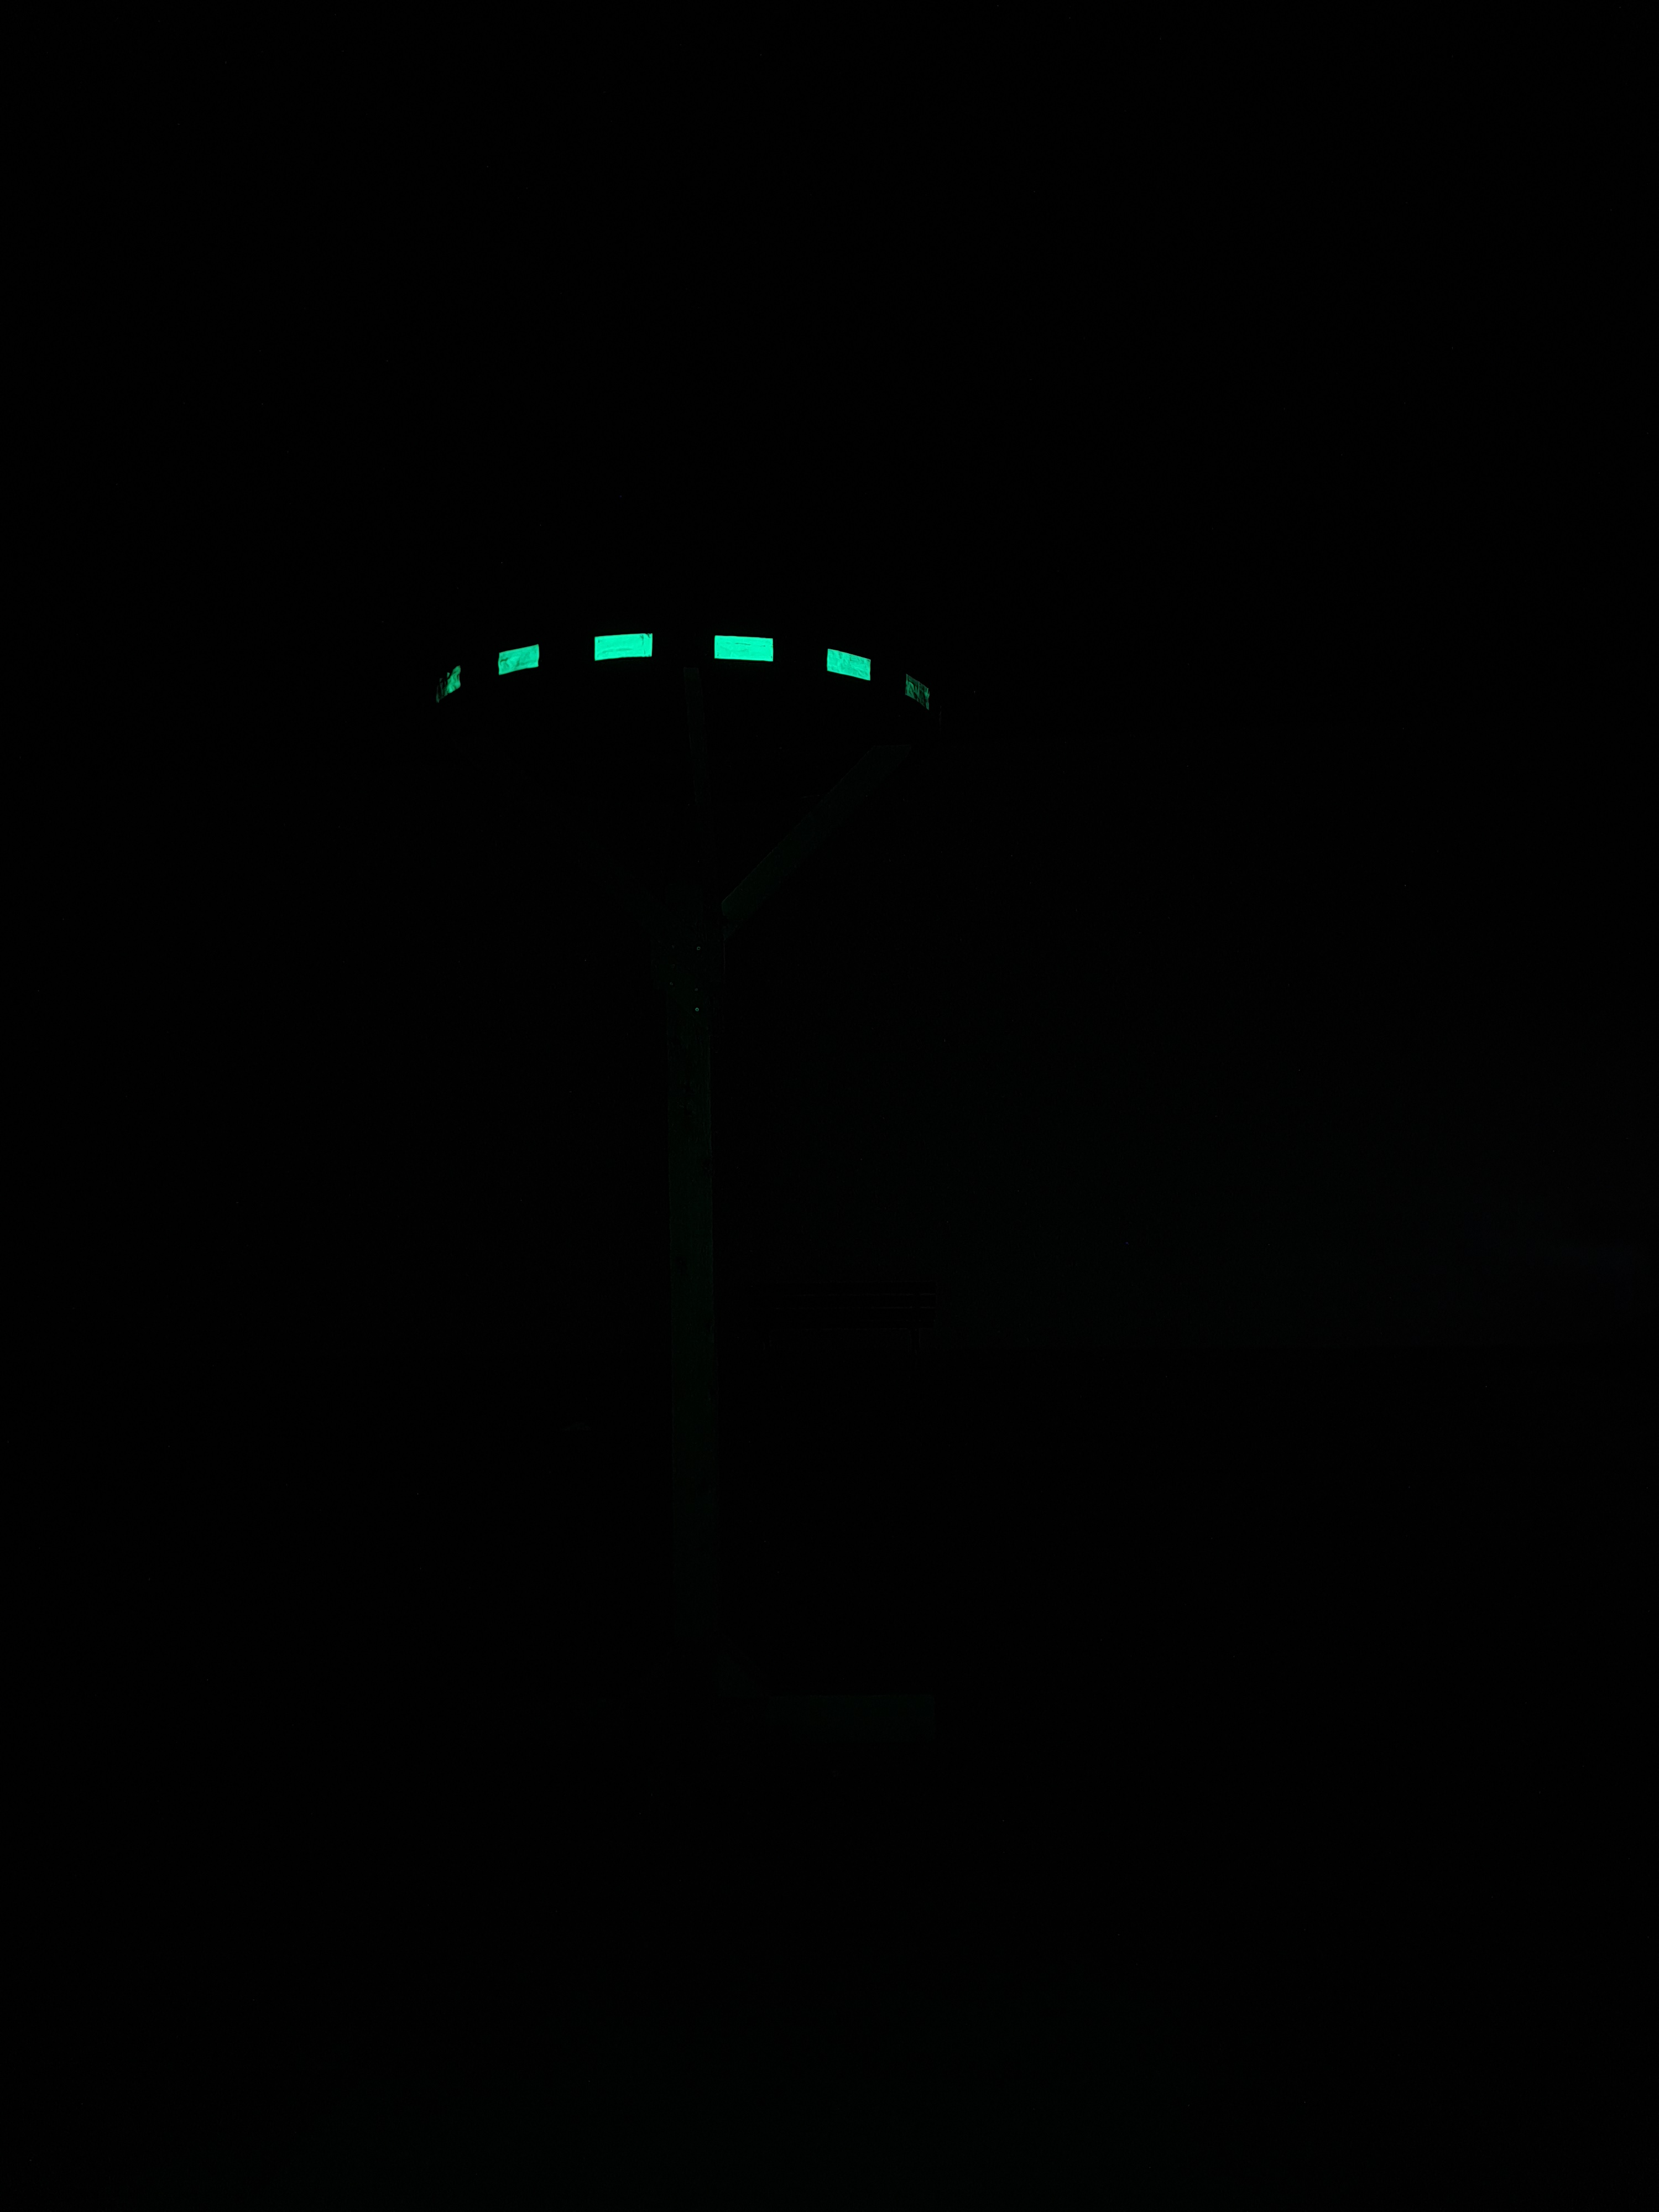hoop: (437, 617, 939, 732)
